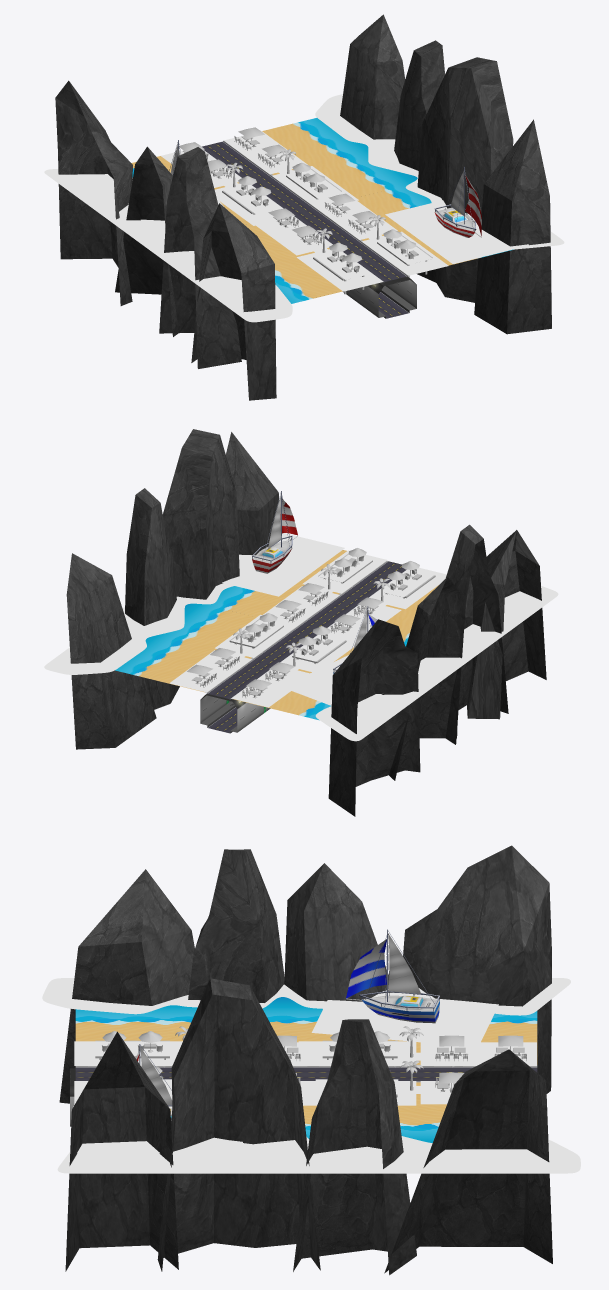
The model's file is Beach_08.fbx.
3 views of the same model, one above another, from view 1: azimuth 30°, elevation 25°; view 2: azimuth 150°, elevation 25°; view 3: azimuth 270°, elevation 25° (orthographic). The views are drawn at different scales.
Parts seen in each view (by area): view 1: Beach_08; view 2: Beach_08; view 3: Beach_08.
Part boxes in pixels (x1,y1,x2,y2): Beach_08: (44,14,564,400); Beach_08: (44,429,558,816); Beach_08: (42,845,580,1275).
Size of the model in its own units: 22617 by 13384 by 25170.
